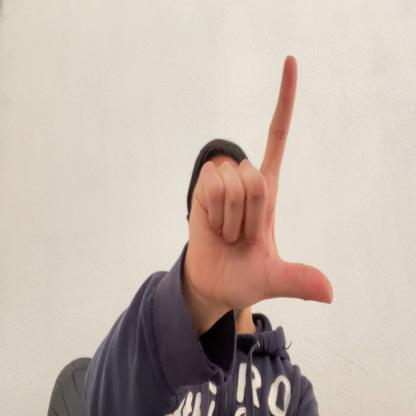L: (188, 55, 333, 308)
